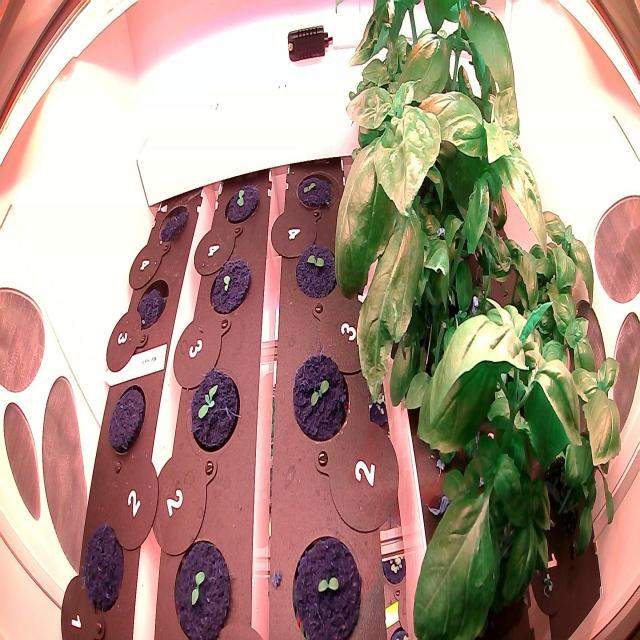germination: (287, 526, 368, 640), (168, 530, 236, 640), (288, 346, 354, 450), (182, 359, 246, 459), (203, 251, 259, 322), (292, 238, 346, 303), (292, 159, 344, 217), (221, 176, 264, 233)
pod: (80, 512, 126, 616), (104, 382, 149, 459), (130, 268, 171, 332), (152, 194, 194, 252)
